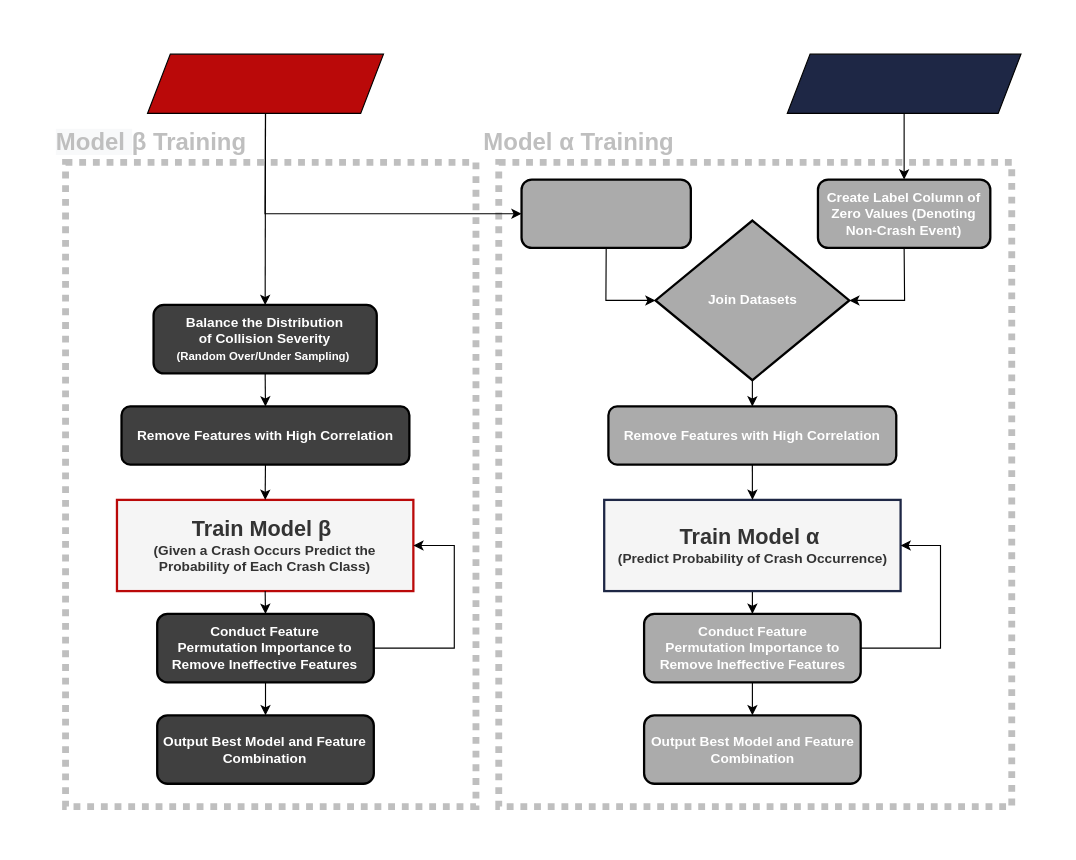
The diagram is 1076 pixels wide and 860 high, and some of its shapes have lost their labels. The shapes that lost their labels are listed below. From the top down, each one's centre as x and y in pixels, then its label:
the point at 264,83: Collision Data
the point at 903,83: Non-Collision Data
the point at 605,213: Replace Crash Severity Label with Bool (One) Value
